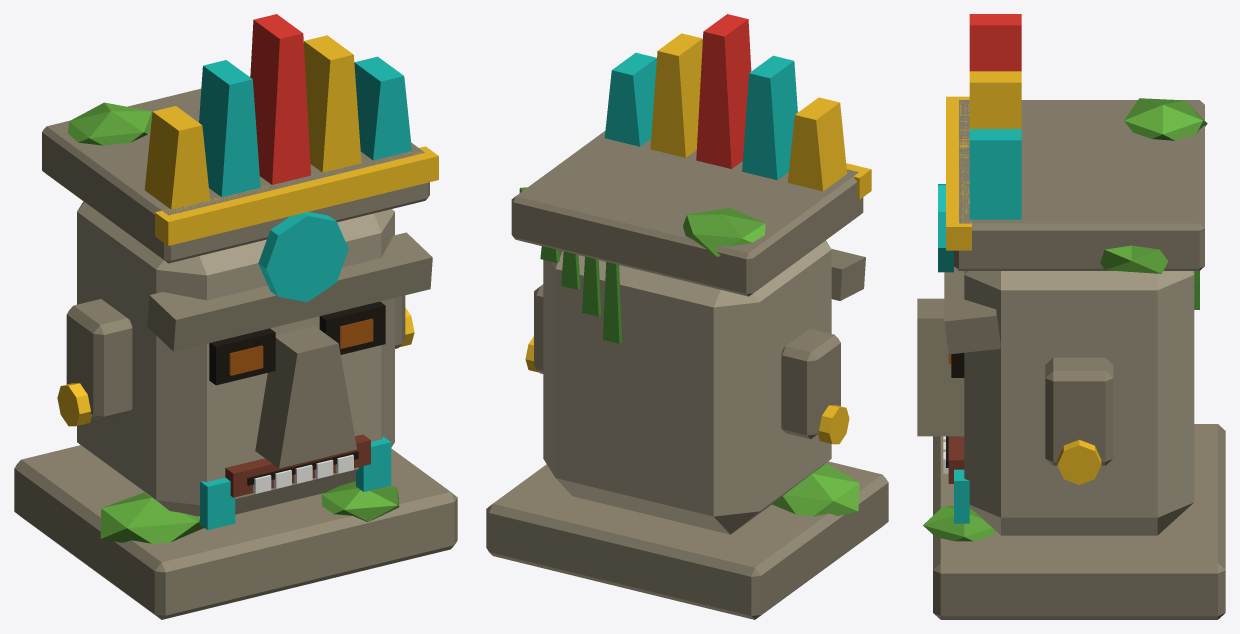
The model's file is idol.glb.
3 renders of one model, left to right at view 1: azimuth 30°, elevation 25°; view 2: azimuth 150°, elevation 25°; view 3: azimuth 270°, elevation 25°, orthographic. The views are drawn at different scales.
Parts seen in each view (by area): view 1: idol; view 2: idol; view 3: idol.
Boxes of the visible parts, bbox=[...] form: idol: bbox=[14, 14, 457, 619]; idol: bbox=[486, 14, 888, 619]; idol: bbox=[917, 14, 1225, 619].
Bounding box in the file's own units: 7.3 × 11.2 × 5.9.
2 materials, 2 textured.
